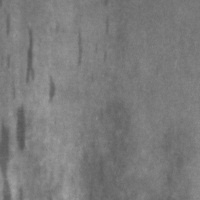inclusion: (157, 129, 185, 193), (84, 131, 111, 196), (90, 8, 113, 67), (12, 99, 32, 161), (2, 51, 25, 101), (21, 24, 39, 86), (71, 24, 88, 68), (44, 73, 62, 105), (1, 7, 16, 43)
